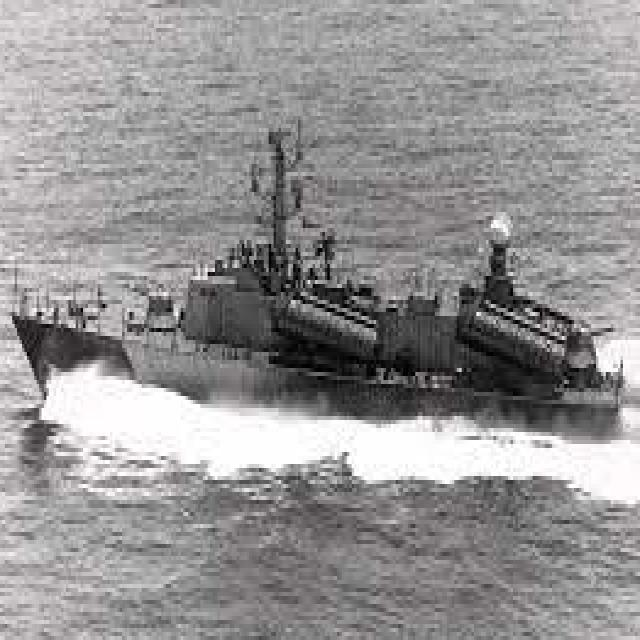navalvessels: (11, 90, 622, 470)
